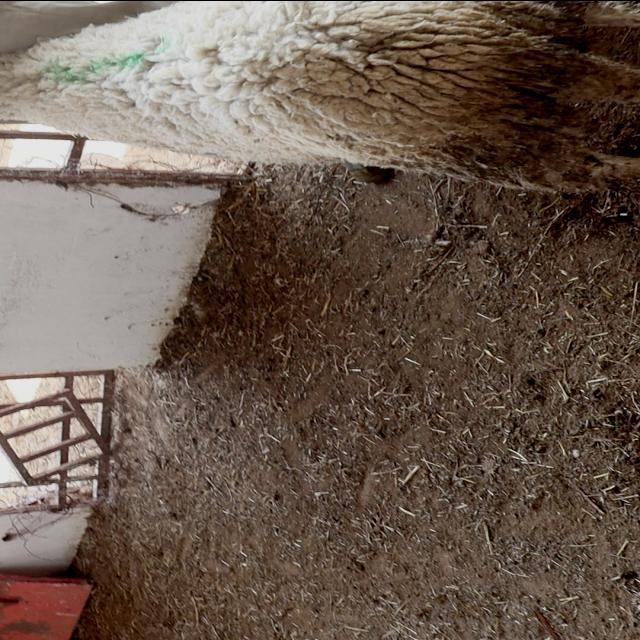Score_4: (0, 0, 639, 191)
